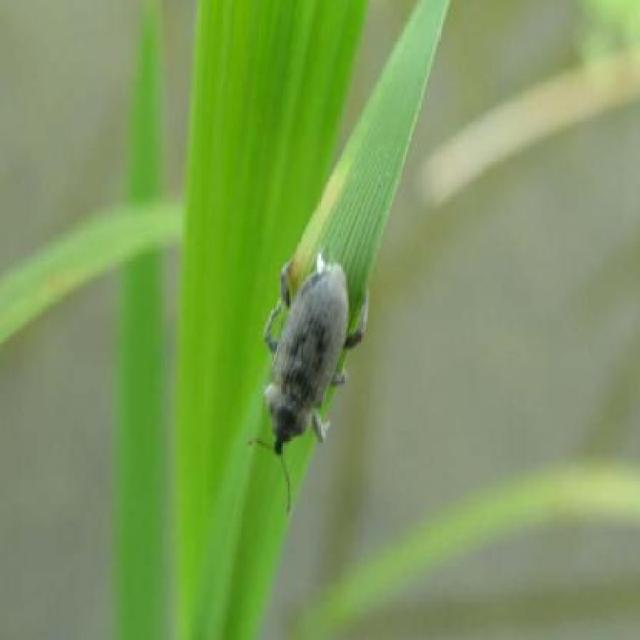rice-bug: (261, 247, 370, 467)
